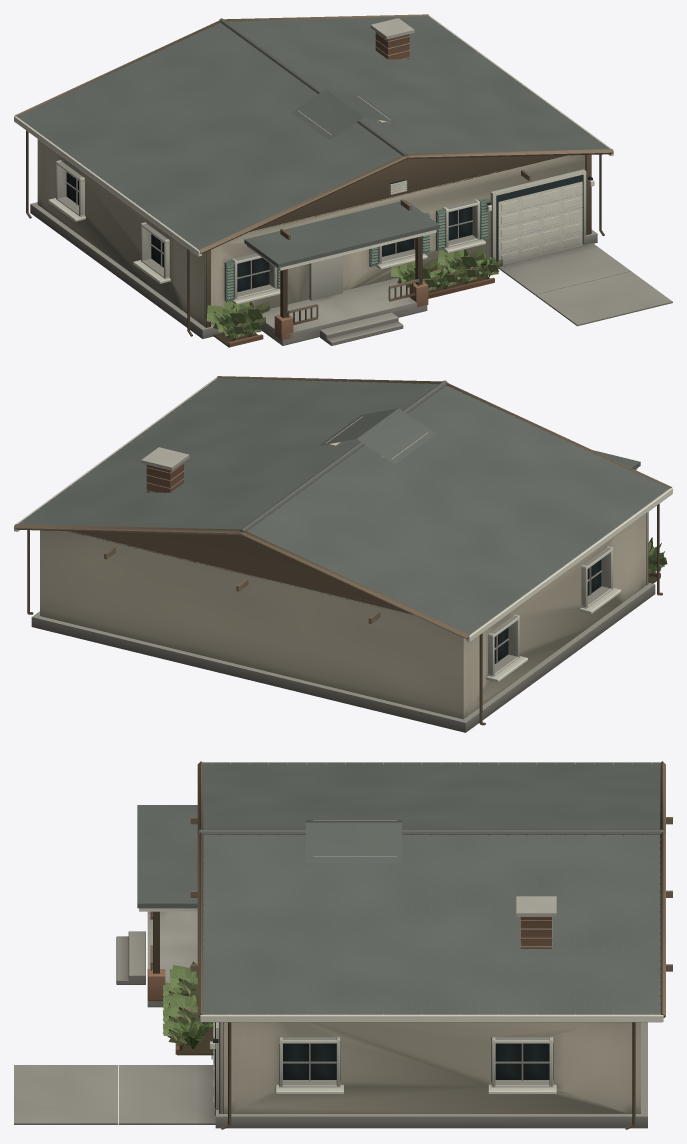
File: house-3.glb
The picture shows the model from 3 angles, top to bottom: view 1: azimuth 30°, elevation 25°; view 2: azimuth 150°, elevation 25°; view 3: azimuth 270°, elevation 25°; orthographic projection. The views are drawn at different scales.
Parts seen in each view (by area): view 1: shingle, stucco, concrete, ivory, wood, roof-edge, foliage, window-glazing, terracotta, sage, foliage-light, window-interior; view 2: shingle, stucco, wood, concrete, roof-edge, ivory, terracotta, window-glazing; view 3: shingle, stucco, concrete, ivory, roof-edge, wood, window-glazing, foliage, terracotta, foliage-light.
Part boxes in pixels (bbox=[...]): shingle: bbox=[17, 16, 609, 267]; stucco: bbox=[37, 96, 585, 326]; concrete: bbox=[30, 18, 672, 345]; ivory: bbox=[14, 15, 613, 327]; wood: bbox=[15, 14, 613, 341]; roof-edge: bbox=[21, 18, 602, 247]; foliage: bbox=[206, 249, 499, 339]; window-glazing: bbox=[66, 172, 472, 292]; terracotta: bbox=[228, 32, 494, 347]; sage: bbox=[224, 198, 488, 302]; foliage-light: bbox=[230, 248, 502, 337]; window-interior: bbox=[390, 174, 583, 261]; shingle: bbox=[18, 378, 669, 634]; stucco: bbox=[40, 416, 646, 719]; wood: bbox=[14, 376, 671, 725]; concrete: bbox=[31, 447, 655, 732]; roof-edge: bbox=[25, 380, 664, 631]; ivory: bbox=[14, 377, 672, 682]; terracotta: bbox=[146, 462, 660, 577]; window-glazing: bbox=[494, 559, 601, 663]; shingle: bbox=[137, 762, 660, 1014]; stucco: bbox=[223, 820, 640, 1113]; concrete: bbox=[14, 896, 647, 1128]; ivory: bbox=[139, 762, 663, 1116]; roof-edge: bbox=[199, 764, 664, 1013]; wood: bbox=[150, 761, 672, 1129]; window-glazing: bbox=[283, 1043, 549, 1079]; foliage: bbox=[162, 961, 213, 1045]; terracotta: bbox=[147, 917, 551, 1054]; foliage-light: bbox=[168, 973, 207, 1045].
Bounding box in the file's own units: 17.25 × 5.85 × 18.91.
